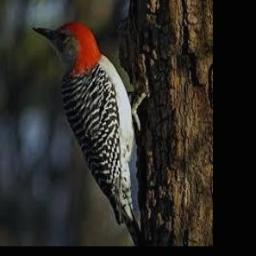Woodpecker: (33, 21, 145, 246)
